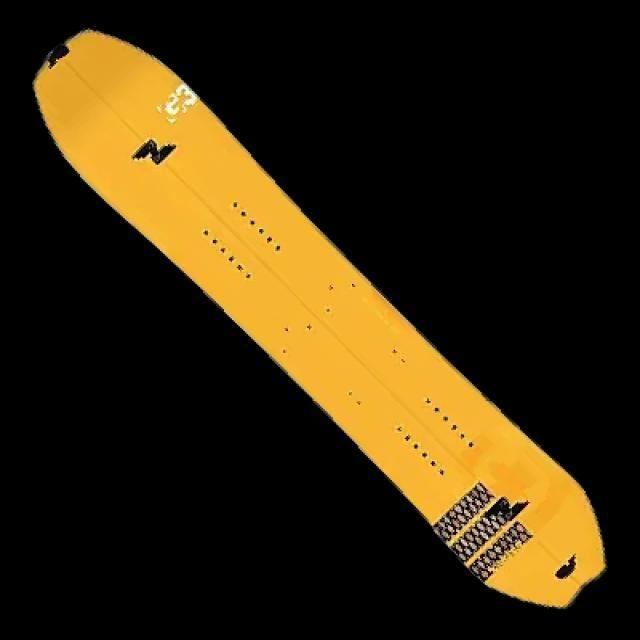Snowboard: (31, 27, 607, 610)
